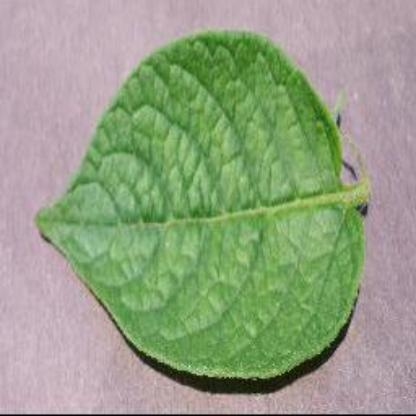Healthy-plant: (34, 26, 378, 388)
